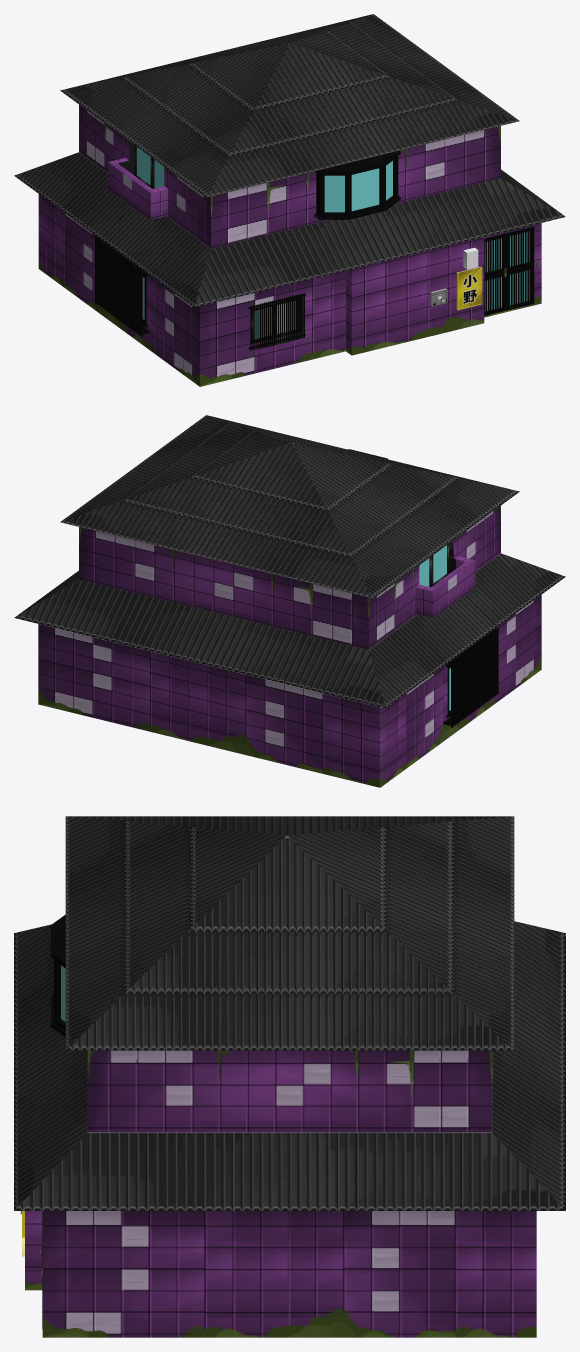
File: House_Ono.fbx
3 views of the same model, one above another, from view 1: azimuth 30°, elevation 25°; view 2: azimuth 150°, elevation 25°; view 3: azimuth 270°, elevation 25° (orthographic). The views are drawn at different scales.
Parts seen in each view (by area): view 1: A2, A, A3, Cube.054, Cube.056, Cube.078, Cube.058, Cube.071, Cube.063, Cube.067; view 2: A2, A, A3, Cube.054, Cube.067; view 3: A, A2, A3.
Part boxes in pixels (x1=…): A2: x1=14, y1=43, x2=565, y2=307; A: x1=60, y1=14, x2=519, y2=197; A3: x1=38, y1=194, x2=541, y2=386; Cube.054: x1=95, y1=236, x2=142, y2=336; Cube.056: x1=250, y1=293, x2=304, y2=350; Cube.078: x1=506, y1=226, x2=534, y2=310; Cube.058: x1=484, y1=233, x2=506, y2=315; Cube.071: x1=456, y1=266, x2=482, y2=310; Cube.063: x1=251, y1=298, x2=299, y2=344; Cube.067: x1=134, y1=145, x2=164, y2=188; A2: x1=14, y1=442, x2=565, y2=708; A: x1=60, y1=415, x2=519, y2=598; A3: x1=38, y1=595, x2=541, y2=787; Cube.054: x1=451, y1=627, x2=498, y2=727; Cube.067: x1=419, y1=543, x2=449, y2=587; A: x1=65, y1=816, x2=514, y2=1050; A2: x1=14, y1=835, x2=565, y2=1210; A3: x1=25, y1=1211, x2=536, y2=1337.
Size of the model in its own units: 1371 by 860 by 1151.
